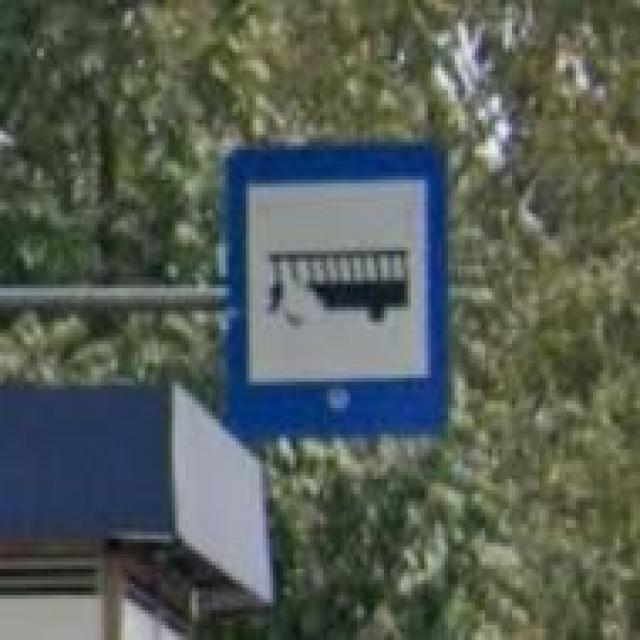traffic sign: (229, 142, 452, 442)
